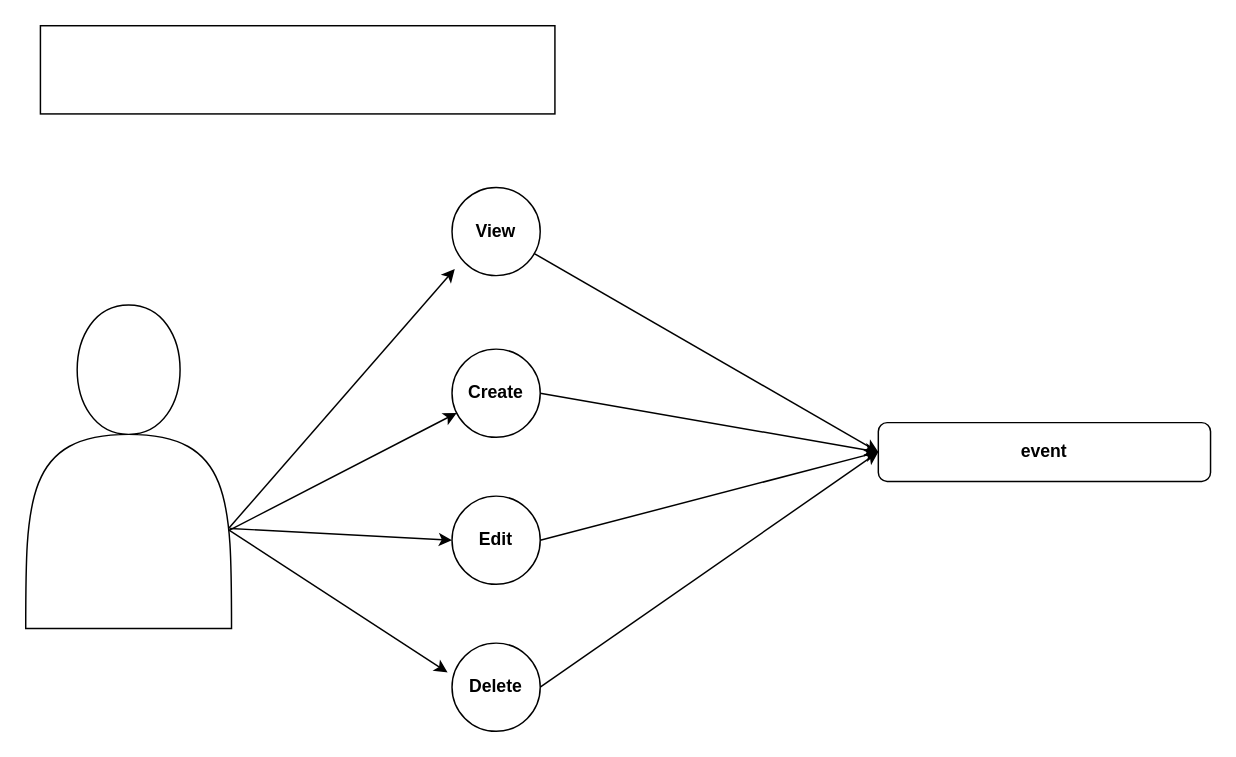
Image size: 1236x757. Some labels were removed from this diagram. The shapes that lost their labels are listed below. From the top down, each one's box as (x1, y1, x2, y2) in pixels, then its label:
(39, 24, 555, 114): Calendar page
(24, 304, 232, 628): User
